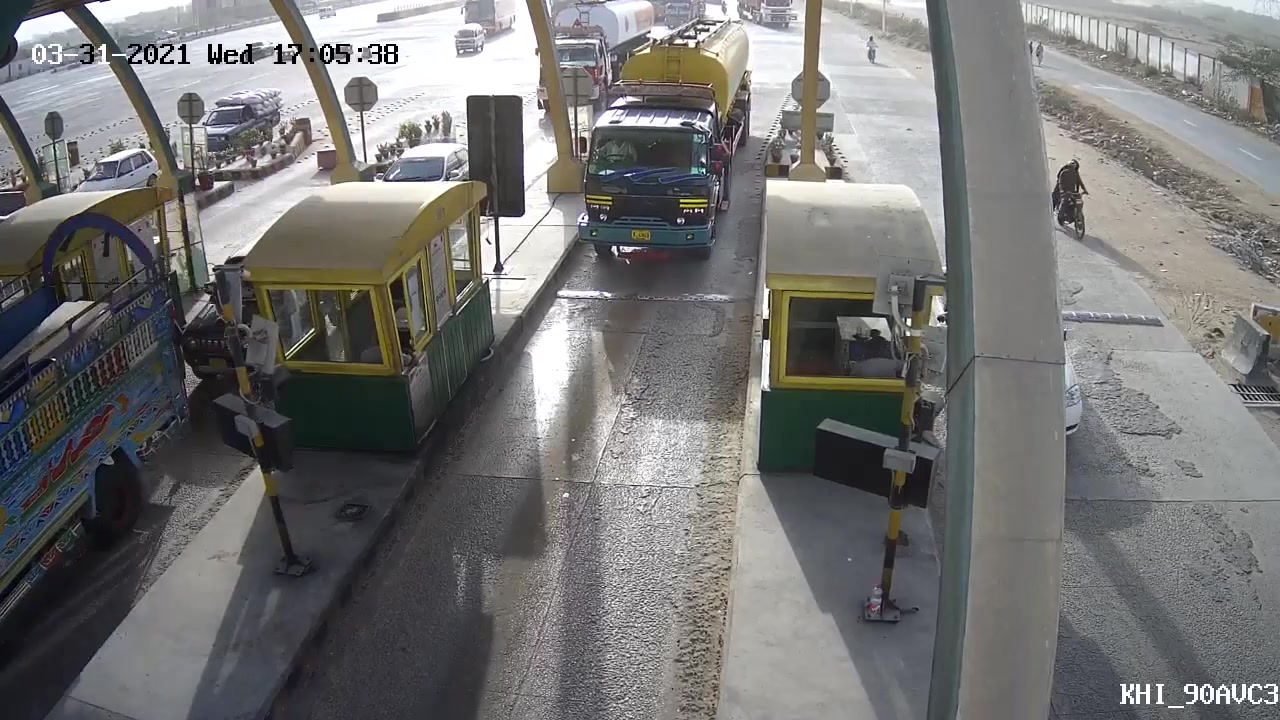F5: (576, 48, 755, 265)
